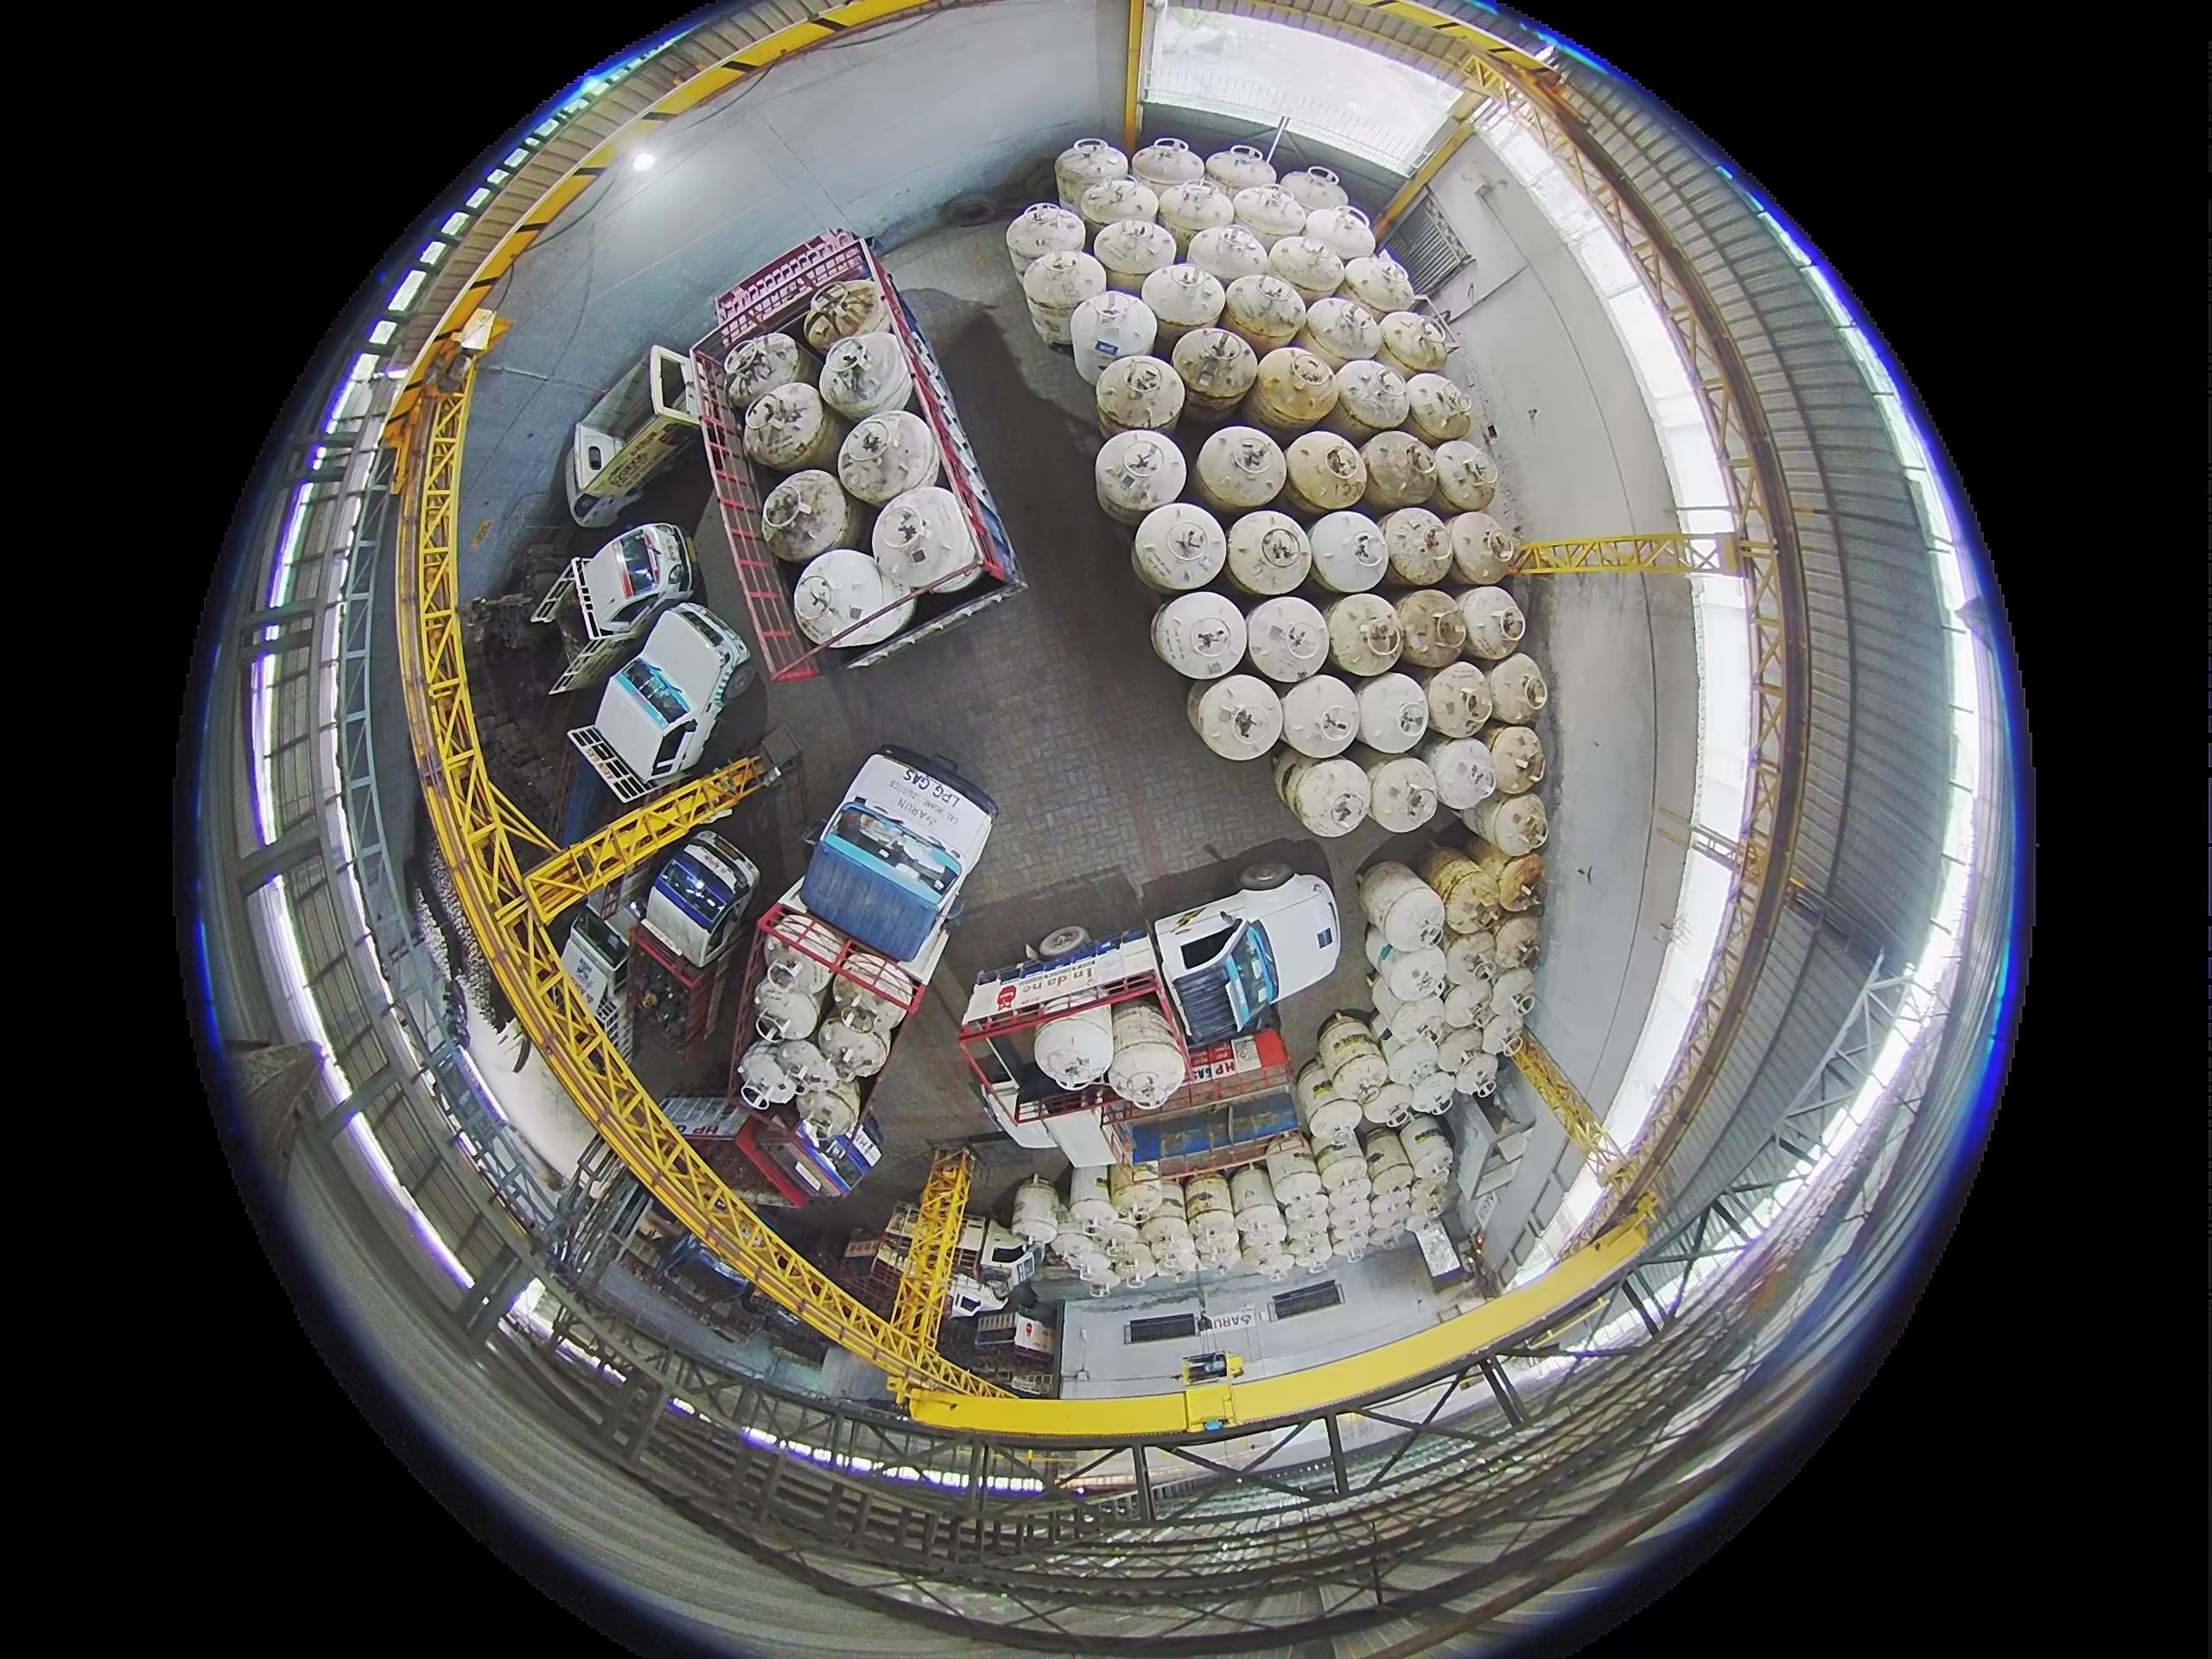cylinder: (838, 410, 941, 509), (1099, 425, 1211, 509), (820, 331, 923, 422), (758, 469, 853, 563), (1132, 502, 1228, 596), (1150, 591, 1249, 681), (740, 380, 834, 471), (1355, 859, 1447, 950), (1195, 425, 1289, 512), (1190, 673, 1284, 760), (1019, 251, 1101, 350), (1245, 596, 1332, 683), (1277, 673, 1364, 760), (1226, 511, 1315, 596), (1252, 345, 1341, 430), (1170, 326, 1259, 411), (1306, 507, 1392, 592), (1096, 352, 1181, 436), (1284, 430, 1367, 516), (1221, 272, 1308, 354), (719, 331, 803, 415), (1033, 1009, 1113, 1094), (1360, 429, 1439, 514), (799, 277, 887, 354), (1325, 594, 1406, 676), (1289, 756, 1372, 835), (1355, 671, 1432, 753), (1392, 589, 1468, 669), (1303, 295, 1385, 369), (1155, 179, 1237, 254), (1383, 507, 1458, 587), (1143, 265, 1226, 336), (1367, 755, 1442, 833), (1425, 735, 1500, 814), (1332, 357, 1411, 432), (1080, 289, 1160, 362), (1423, 660, 1496, 739), (1318, 1037, 1392, 1115), (1188, 221, 1273, 288), (1005, 200, 1082, 274), (1096, 216, 1174, 286), (1111, 1040, 1190, 1110), (1423, 847, 1493, 925), (1456, 586, 1529, 659), (1447, 509, 1519, 584), (1376, 310, 1453, 380), (1376, 943, 1453, 1011), (1231, 185, 1312, 249), (1430, 439, 1500, 512), (1055, 139, 1129, 209), (1080, 176, 1155, 244), (1266, 234, 1345, 298), (1402, 371, 1470, 444), (1341, 253, 1418, 317), (1301, 204, 1379, 267), (1482, 652, 1550, 723), (1482, 723, 1548, 796), (751, 978, 826, 1042), (1129, 138, 1204, 202), (1381, 1033, 1449, 1103), (829, 971, 907, 1030), (1374, 997, 1446, 1061), (1482, 789, 1550, 856), (758, 941, 831, 1000), (1010, 1176, 1066, 1251), (1442, 932, 1503, 1000), (1111, 1002, 1183, 1060), (1205, 145, 1277, 199), (1463, 835, 1524, 897), (1305, 1087, 1367, 1147), (1280, 166, 1350, 218), (1294, 1056, 1345, 1127), (1400, 1119, 1454, 1185), (1141, 1218, 1198, 1277), (1440, 972, 1498, 1032), (1360, 1127, 1414, 1188), (1479, 1002, 1533, 1061), (1435, 1023, 1489, 1082), (1494, 852, 1547, 913), (1264, 1145, 1320, 1201), (1493, 915, 1543, 974), (1486, 965, 1536, 1025), (1120, 1178, 1183, 1225), (1231, 1206, 1285, 1260), (1059, 1230, 1115, 1283), (1190, 1213, 1242, 1267), (1230, 1166, 1280, 1218), (1183, 1173, 1235, 1223), (1271, 753, 1313, 816), (1068, 1192, 1122, 1239), (1317, 1148, 1371, 1195), (1404, 1176, 1453, 1225), (1327, 1183, 1374, 1234), (1280, 1187, 1332, 1232), (1280, 1227, 1332, 1270), (1369, 1187, 1414, 1236), (1097, 1218, 1148, 1260), (1364, 924, 1400, 974)
truck: (683, 223, 1024, 676), (944, 878, 1409, 1154), (791, 753, 989, 1075), (721, 896, 925, 1173), (559, 605, 756, 845), (531, 523, 700, 694), (846, 1195, 1029, 1342), (557, 345, 698, 528), (516, 512, 526, 532)
